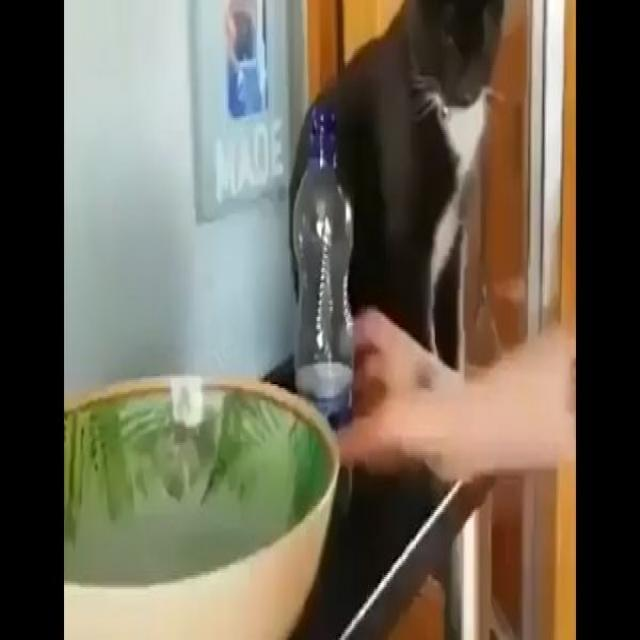plastic_bottle: (293, 107, 354, 517)
